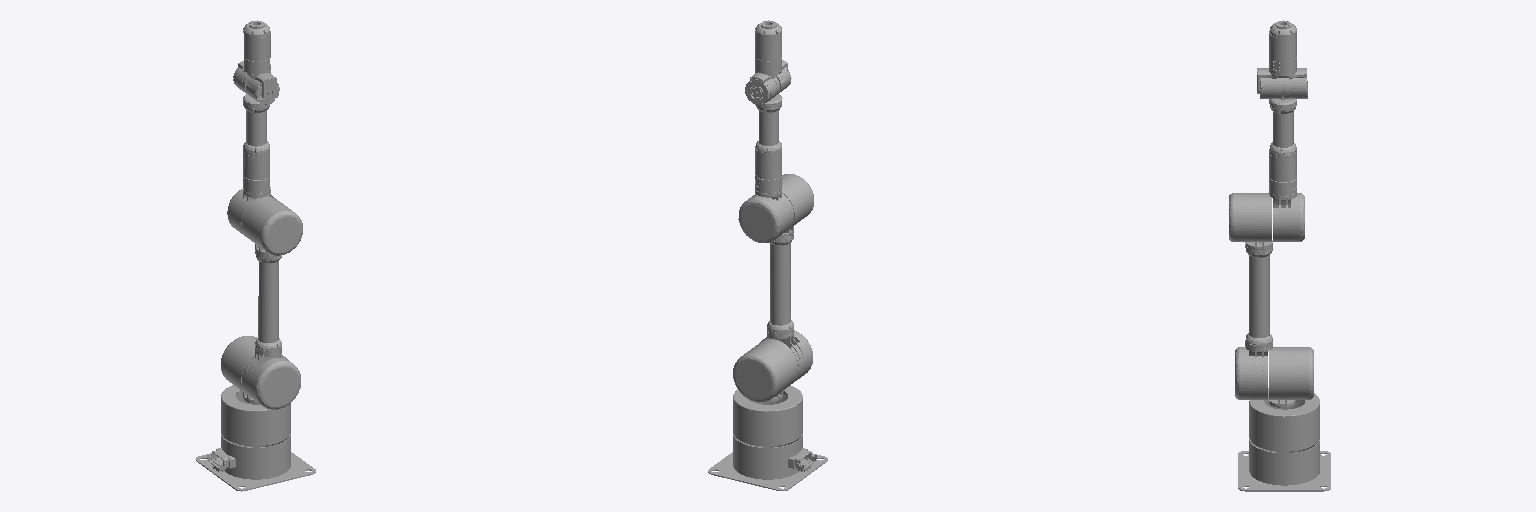
The robot description file, URDF, robot "prototype4":
<robot name="prototype4">
    <material name="Blue">
        <texture />
        <color rgba="0 0 1 1" />
    </material>
    <material name="DarkGrey">
        <texture />
        <color rgba="0.3 0.3 0.3 1" />
    </material>
    <material name="Grey">
        <texture />
        <color rgba="0.5 0.5 0.5 1" />
    </material>
    <material name="LightGrey">
        <texture />
        <color rgba="0.7 0.7 0.7 1" />
    </material>
    <link name="base">
        <visual>
            <origin xyz="0 0 0" rpy="0 0 3.14159" />
            <geometry>
                <mesh filename="package://fourbythree_description/meshes/prototype4_base.stl" scale="1 1 1" />
            </geometry>
            <material name="LightGrey">
                <texture />
                <color rgba="0.7 0.7 0.7 1" />
            </material>
        </visual>
    </link>
    <link name="flange">
        <inertial>
            <mass value="1.29438" />
            <origin xyz="-0.00769561 0.0699615 0.0517892" rpy="0 -0 0" />
            <inertia ixx="0.254817" ixy="0.523397" ixz="-0.059539" iyy="0.89521" iyz="-0.300698" izz="0.219974" />
        </inertial>
    </link>
    <link name="flange_rotZ">
        <inertial>
            <mass value="1.29438" />
            <origin xyz="-0.00769561 0.0699615 0.0517892" rpy="0 -0 0" />
            <inertia ixx="0.254817" ixy="0.523397" ixz="-0.059539" iyy="0.89521" iyz="-0.300698" izz="0.219974" />
        </inertial>
        <visual>
            <origin xyz="0 0 0" rpy="0 -0 0" />
            <geometry>
                <mesh filename="package://fourbythree_description/meshes/prototype4_flange.stl" scale="1 1 1" />
            </geometry>
            <material name="LightGrey">
                <texture />
                <color rgba="0.7 0.7 0.7 1" />
            </material>
        </visual>
    </link>
    <link name="link1">
        <inertial>
            <mass value="-7.39023e-28" />
            <origin xyz="0 0 0" rpy="0 -0 0" />
            <inertia ixx="1.84979e-26" ixy="1.99542e-21" ixz="-5.21559e-28" iyy="1.02095" iyz="9.99837e-12" izz="-1.66803e-26" />
        </inertial>
    </link>
    <link name="link1_rotZ">
        <inertial>
            <mass value="-2.70447e-27" />
            <origin xyz="0 0 0" rpy="0 -0 0" />
            <inertia ixx="4.40782e-27" ixy="-1.02045e-27" ixz="1.38989e-27" iyy="1.85204e-28" iyz="-2.29272e-27" izz="1.02095" />
        </inertial>
        <visual>
            <origin xyz="0 -0.03 -0.02" rpy="0 0 -1.5708" />
            <geometry>
                <mesh filename="package://fourbythree_description/meshes/prototype4_link1.stl" scale="1 1 1" />
            </geometry>
            <material name="LightGrey">
                <texture />
                <color rgba="0.7 0.7 0.7 1" />
            </material>
        </visual>
    </link>
    <link name="link2">
        <inertial>
            <mass value="3.13711" />
            <origin xyz="0.709682 0.48586 3.12831e-17" rpy="0 -0 0" />
            <inertia ixx="-0.934151" ixy="3.87876" ixz="-0.90371" iyy="1.9551" iyz="-1.59331" izz="1.92567" />
        </inertial>
    </link>
    <link name="link2_rotZ">
        <inertial>
            <mass value="-7.81144e-28" />
            <origin xyz="0 0 0" rpy="0 -0 0" />
            <inertia ixx="-0.934151" ixy="3.87876" ixz="-0.90371" iyy="1.9551" iyz="-1.59331" izz="1.92567" />
        </inertial>
        <visual>
            <origin xyz="0 0 0.09" rpy="0 -1.5708 3.1416" />
            <geometry>
                <mesh filename="package://fourbythree_description/meshes/prototype4_link2.stl" scale="1 1 1" />
            </geometry>
            <material name="LightGrey">
                <texture />
                <color rgba="0.7 0.7 0.7 1" />
            </material>
        </visual>
    </link>
    <link name="link3">
        <inertial>
            <mass value="3.14071" />
            <origin xyz="0.268582 4.9998e-12 1.02118" rpy="0 -0 0" />
            <inertia ixx="2.32263" ixy="0.239459" ixz="2.52886" iyy="0.373681" iyz="-1.04348" izz="-1.30168" />
        </inertial>
    </link>
    <link name="link3_rotZ">
        <inertial>
            <mass value="3.14071" />
            <origin xyz="0.268582 1.02118 5.66317e-17" rpy="0 -0 0" />
            <inertia ixx="2.32263" ixy="2.52886" ixz="-0.239459" iyy="-1.30168" iyz="1.04348" izz="0.373681" />
        </inertial>
        <visual>
            <origin xyz="0 0 0" rpy="0 -1.5708 -1.5708" />
            <geometry>
                <mesh filename="package://fourbythree_description/meshes/prototype4_link3.stl" scale="1 1 1" />
            </geometry>
            <material name="LightGrey">
                <texture />
                <color rgba="0.7 0.7 0.7 1" />
            </material>
        </visual>
    </link>
    <link name="link4">
        <inertial>
            <mass value="-3.80354" />
            <origin xyz="-0.0156852 -0.843223 -0.0871296" rpy="0 -0 0" />
            <inertia ixx="0.754095" ixy="1.04039" ixz="-0.740124" iyy="-0.358084" iyz="0.654724" izz="1.94222" />
        </inertial>
    </link>
    <link name="link4_rotZ">
        <inertial>
            <mass value="-3.80354" />
            <origin xyz="-0.0156852 0.0871296 -0.843223" rpy="0 -0 0" />
            <inertia ixx="0.754095" ixy="0.740124" ixz="1.04039" iyy="1.94222" iyz="-0.654724" izz="-0.358084" />
        </inertial>
        <visual>
            <origin xyz="0 0 -0.39" rpy="0 -0 1.5708" />
            <geometry>
                <mesh filename="package://fourbythree_description/meshes/prototype4_link4.stl" scale="1 1 1" />
            </geometry>
            <material name="LightGrey">
                <texture />
                <color rgba="0.7 0.7 0.7 1" />
            </material>
        </visual>
    </link>
    <link name="link5">
        <inertial>
            <mass value="-3.80354" />
            <origin xyz="-0.00422348 0.0871296 -0.0176243" rpy="0 -0 0" />
            <inertia ixx="1.2309" ixy="0.288001" ixz="-0.107913" iyy="-0.0808705" iyz="0.672528" izz="-0.834888" />
        </inertial>
    </link>
    <link name="link5_rotZ">
        <inertial>
            <mass value="-3.80354" />
            <origin xyz="-0.00422348 -0.0176243 -0.0871296" rpy="0 -0 0" />
            <inertia ixx="1.2309" ixy="-0.107913" ixz="-0.288001" iyy="-0.834888" iyz="-0.672528" izz="-0.0808705" />
        </inertial>
        <visual>
            <origin xyz="0 0 -0.01" rpy="0 1.5708 1.5708" />
            <geometry>
                <mesh filename="package://fourbythree_description/meshes/prototype4_link5.stl" scale="1 1 1" />
            </geometry>
            <material name="LightGrey">
                <texture />
                <color rgba="0.7 0.7 0.7 1" />
            </material>
        </visual>
    </link>
    <joint name="joint_1" type="revolute">
        <origin xyz="0 0 0.425" rpy="0 -0 0" />
        <axis xyz="0 0 1" />
        <parent link="base" />
        <child link="link1_rotZ" />
        <limit effort="250" velocity="0.5" lower="-2.8" upper="2.8" />
    </joint>
    <joint name="joint_1_fixed" type="fixed">
        <origin xyz="0 0 0" rpy="1.5708 -0 0" />
        <axis xyz="0 0 0" />
        <parent link="link1_rotZ" />
        <child link="link1" />
    </joint>
    <joint name="joint_2" type="revolute">
        <origin xyz="0 0 0" rpy="0 -0 1.5708" />
        <axis xyz="0 0 1" />
        <parent link="link1" />
        <child link="link2_rotZ" />
        <limit effort="250" velocity="0.5" lower="-1.8" upper="1.8" />
    </joint>
    <joint name="joint_2_fixed" type="fixed">
        <origin xyz="0.6569 0 0" rpy="0 -0 0" />
        <axis xyz="0 0 0" />
        <parent link="link2_rotZ" />
        <child link="link2" />
    </joint>
    <joint name="joint_3" type="revolute">
        <origin xyz="0 0 0.006" rpy="0 0 -1.5708" />
        <axis xyz="0 0 1" />
        <parent link="link2" />
        <child link="link3_rotZ" />
        <limit effort="90" velocity="0.5" lower="-2.5" upper="2.5" />
    </joint>
    <joint name="joint_3_fixed" type="fixed">
        <origin xyz="0 0 0" rpy="-1.5708 0 0" />
        <axis xyz="0 0 0" />
        <parent link="link3_rotZ" />
        <child link="link3" />
    </joint>
    <joint name="joint_4" type="revolute">
        <origin xyz="0 0 0.56345" rpy="0 -0 0" />
        <axis xyz="0 0 1" />
        <parent link="link3" />
        <child link="link4_rotZ" />
        <limit effort="40" velocity="0.5" lower="-2.8" upper="2.8" />
    </joint>
    <joint name="joint_4_fixed" type="fixed">
        <origin xyz="0 0 0" rpy="1.5708 -0 0" />
        <axis xyz="0 0 0" />
        <parent link="link4_rotZ" />
        <child link="link4" />
    </joint>
    <joint name="joint_5" type="revolute">
        <origin xyz="0 0 0" rpy="0 -0 0" />
        <axis xyz="0 0 1" />
        <parent link="link4" />
        <child link="link5_rotZ" />
        <limit effort="40" velocity="0.5" lower="-1.575" upper="1.575" />
    </joint>
    <joint name="joint_5_fixed" type="fixed">
        <origin xyz="0 0 0" rpy="-1.5708 0 0" />
        <axis xyz="0 0 0" />
        <parent link="link5_rotZ" />
        <child link="link5" />
    </joint>
    <joint name="joint_6" type="revolute">
        <origin xyz="0 0 0.26055" rpy="0 -0 0" />
        <axis xyz="0 0 1" />
        <parent link="link5" />
        <child link="flange_rotZ" />
        <limit effort="40" velocity="0.5" lower="-2.8" upper="2.8" />
    </joint>
    <joint name="joint_6_fixed" type="fixed">
        <origin xyz="0 0 0" rpy="0 -0 0" />
        <axis xyz="0 0 0" />
        <parent link="flange_rotZ" />
        <child link="flange" />
    </joint>
</robot>

--- What the picture shows (computed from the rendered views, not written in the file) ---
3 views of the same robot in one strip: view 1: azimuth 30°, elevation 25°; view 2: azimuth 150°, elevation 25°; view 3: azimuth 270°, elevation 25° (orthographic).
Model prototype4 with 13 links and 12 joints (6 revolute, 6 fixed), rooted at base, posed all joints at 0.
Visible links, largest first — view 1: base, link2_rotZ, link1_rotZ, link4_rotZ, link5_rotZ, link3_rotZ; view 2: base, link2_rotZ, link1_rotZ, link4_rotZ, link5_rotZ; view 3: base, link2_rotZ, link1_rotZ, link4_rotZ, link5_rotZ, link3_rotZ.
Boxes of the visible links, <box> form: base: <box>196,385,315,491</box>; link2_rotZ: <box>227,189,302,376</box>; link1_rotZ: <box>221,336,300,409</box>; link4_rotZ: <box>235,68,279,180</box>; link5_rotZ: <box>233,31,276,100</box>; link3_rotZ: <box>235,176,270,236</box>; base: <box>708,385,827,490</box>; link2_rotZ: <box>738,174,813,358</box>; link1_rotZ: <box>733,330,812,402</box>; link4_rotZ: <box>752,67,791,179</box>; link5_rotZ: <box>745,33,787,104</box>; base: <box>1238,388,1330,491</box>; link2_rotZ: <box>1229,193,1304,371</box>; link1_rotZ: <box>1235,347,1313,407</box>; link4_rotZ: <box>1260,78,1303,181</box>; link5_rotZ: <box>1257,32,1307,98</box>; link3_rotZ: <box>1269,177,1296,207</box>.
Bounding box of the posed robot: 0.3719 × 0.3971 × 1.91 m (x, y, z).
7 mesh visuals loaded from 7 distinct referenced files (7 binary STL).